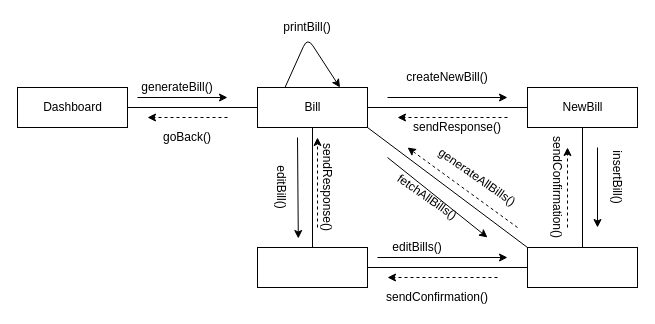
This 655x324 diagram has some shape labels left out. The shapes that lost their labels are listed below. From the top down, each one's centre as x and y in pixels, then its label:
At point (312, 267): "Edit".
At point (582, 267): "Database".
